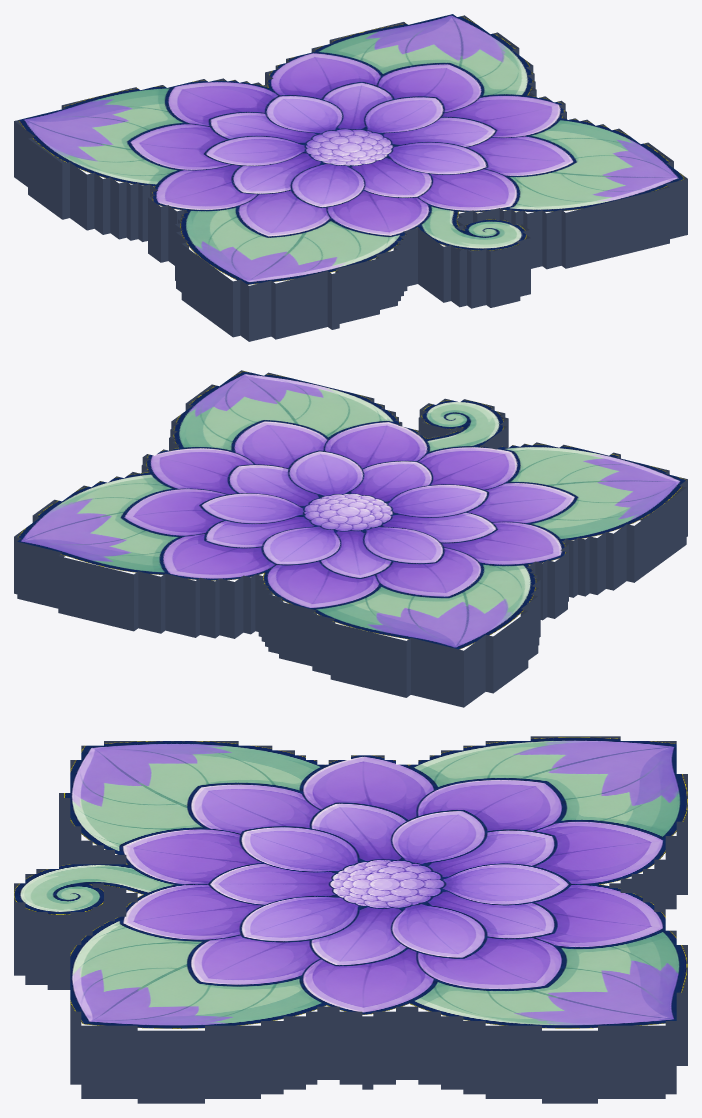
The model's file is boss_bloom.glb.
3 views of the same model, one above another, from view 1: azimuth 30°, elevation 25°; view 2: azimuth 150°, elevation 25°; view 3: azimuth 270°, elevation 25° (orthographic). The views are drawn at different scales.
Parts seen in each view (by area): view 1: boss_bloom; view 2: boss_bloom; view 3: boss_bloom.
Part boxes in pixels (x1,y1,x2,y2): boss_bloom: (14, 14, 687, 341); boss_bloom: (14, 370, 687, 707); boss_bloom: (14, 736, 687, 1103).
Bounding box in the file's own units: 0.8611 × 0.1 × 0.8333.
2 materials, 1 textured.
